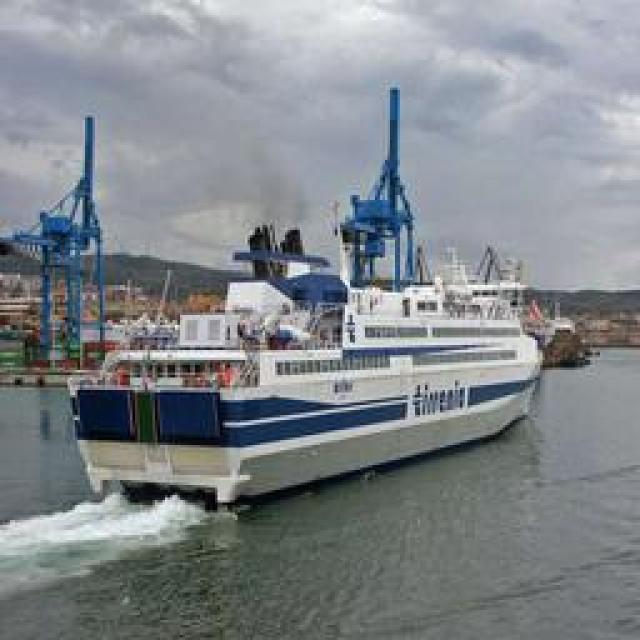CIV_Ship: (65, 246, 540, 514)
